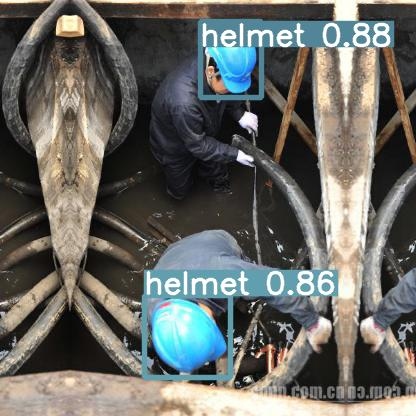helmet: (144, 295, 230, 377), (200, 21, 261, 97)
